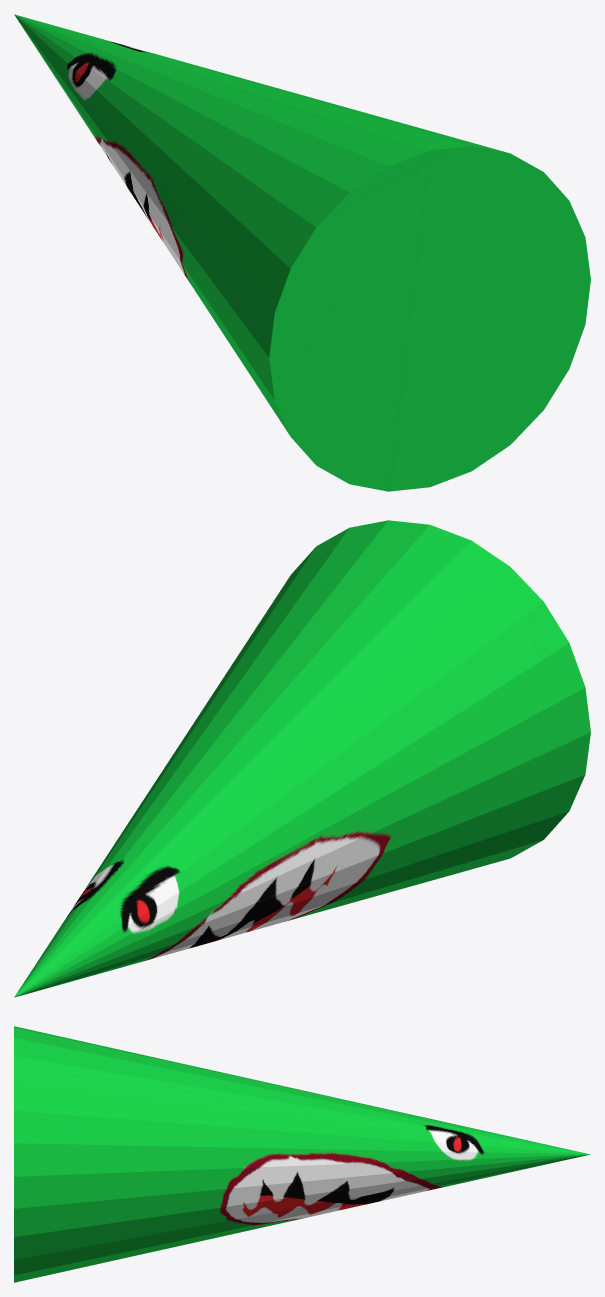
Rendered from Boid.fbx.
3 views of the same model, one above another, from view 1: azimuth 30°, elevation 25°; view 2: azimuth 150°, elevation 25°; view 3: azimuth 270°, elevation 25° (orthographic). The views are drawn at different scales.
Visible parts, largest first — view 1: node_id5; view 2: node_id5; view 3: node_id5.
Part boxes in pixels (left/top/right/bottom): node_id5: left=14, top=14, right=590, bottom=491; node_id5: left=14, top=520, right=590, bottom=997; node_id5: left=14, top=1026, right=590, bottom=1282.
Bounding box in the file's own units: 0.512 × 0.512 × 1.15.
1 material, 1 textured.
